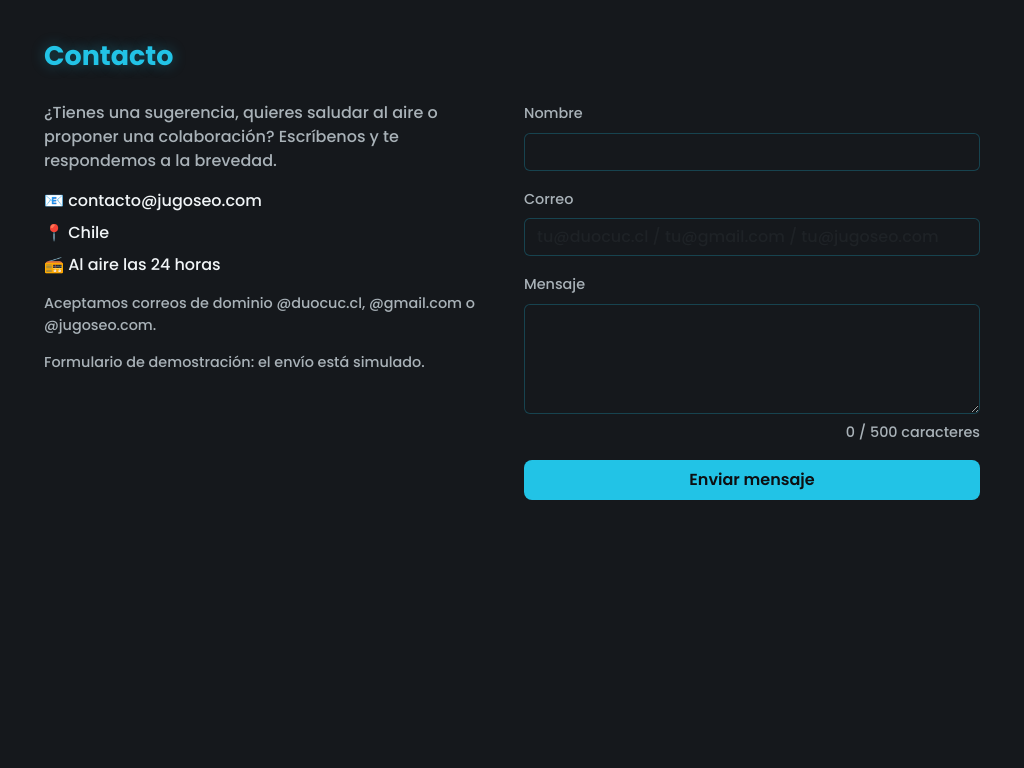
Contacto › rechaza el envío cuando los campos están vacíos
Click the button "Enviar mensaje".
click(752, 480)  # box [524, 460, 980, 500]
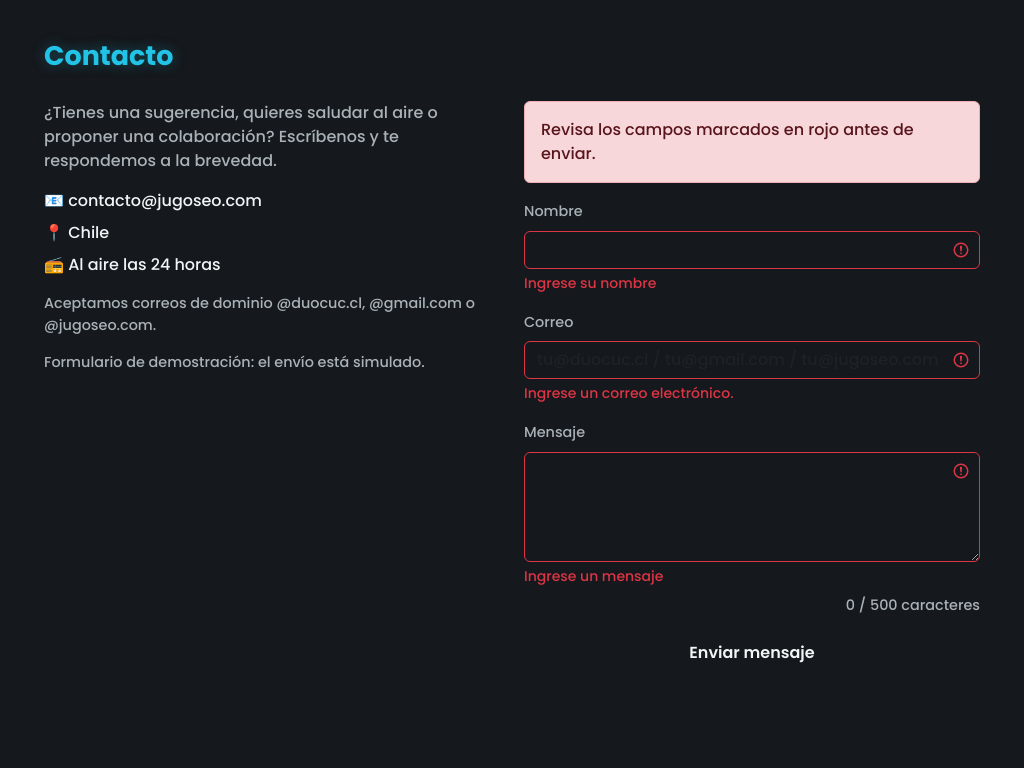
Now the message reads "Revisa los campos marcados en rojo antes de enviar.", box [541, 118, 914, 165]
Now the text "Ingrese su nombre" is shown, box [524, 273, 656, 293]
Now the text "Ingrese un mensaje" is shown, box [524, 566, 663, 586]
